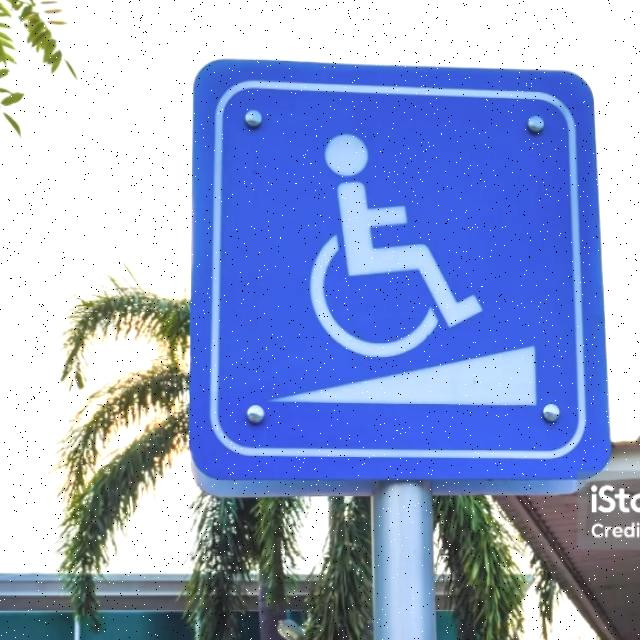symbol_of_access: (186, 53, 614, 486)
